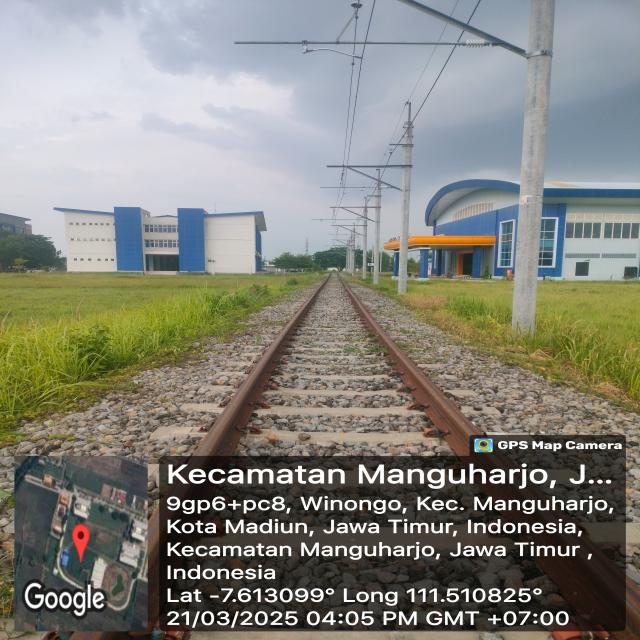rail-detection: (340, 278, 484, 456), (194, 279, 327, 456)
